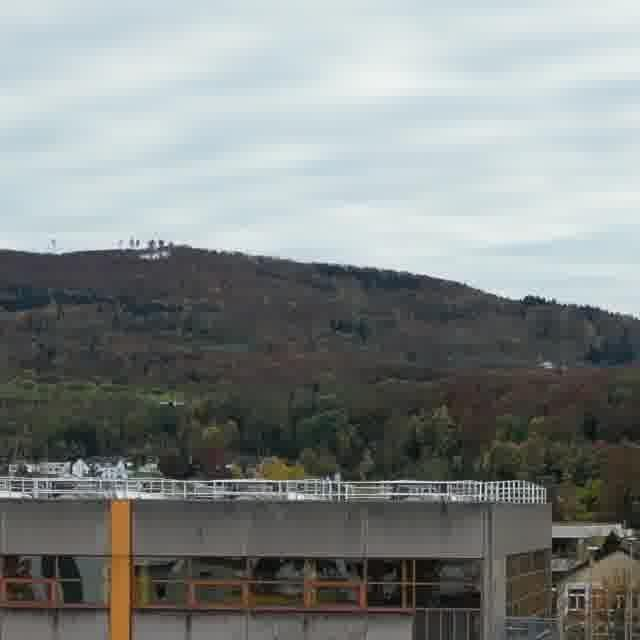Drohne: (160, 398, 184, 407)
